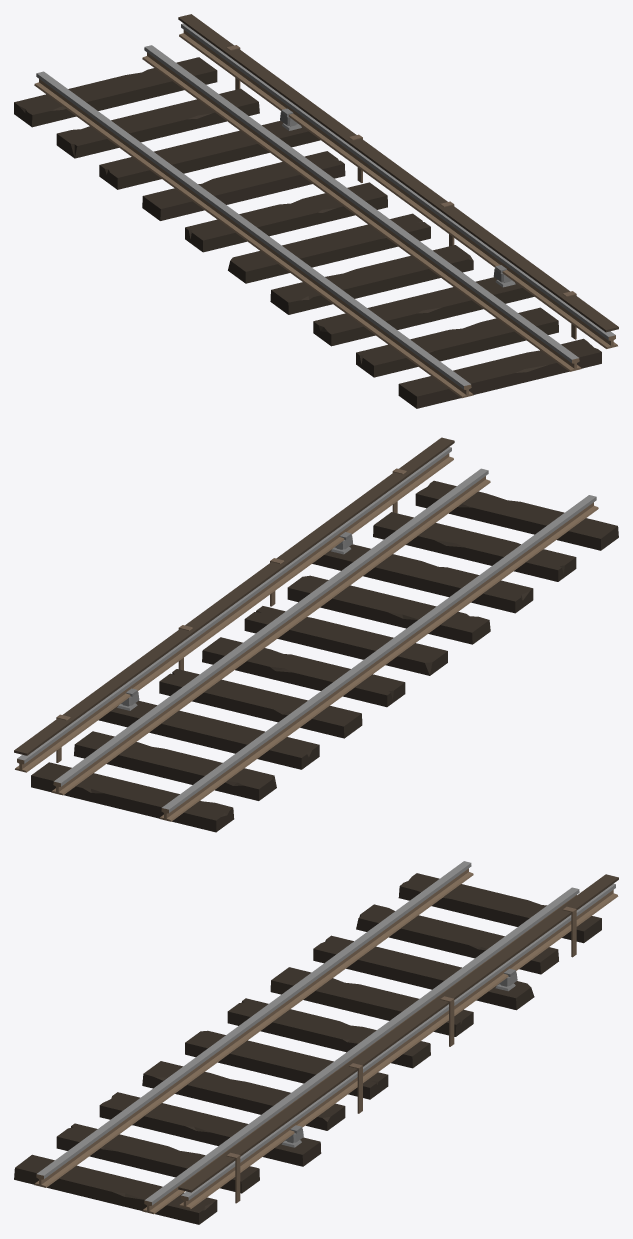
The model's file is SW_ENV_TrackStraight_10m.fbx.
3 renders of one model, top to bottom at view 1: azimuth 30°, elevation 25°; view 2: azimuth 150°, elevation 25°; view 3: azimuth 330°, elevation 25°, orthographic.
Parts seen in each view (by area): view 1: SW_ENV_TrackStraight_10m; view 2: SW_ENV_TrackStraight_10m; view 3: SW_ENV_TrackStraight_10m.
Part boxes in pixels (x1,y1,x2,y2): SW_ENV_TrackStraight_10m: (14,14,618,408); SW_ENV_TrackStraight_10m: (14,437,618,832); SW_ENV_TrackStraight_10m: (14,861,618,1224).
Size of the model in its own units: 275 by 58.74 by 1000.
